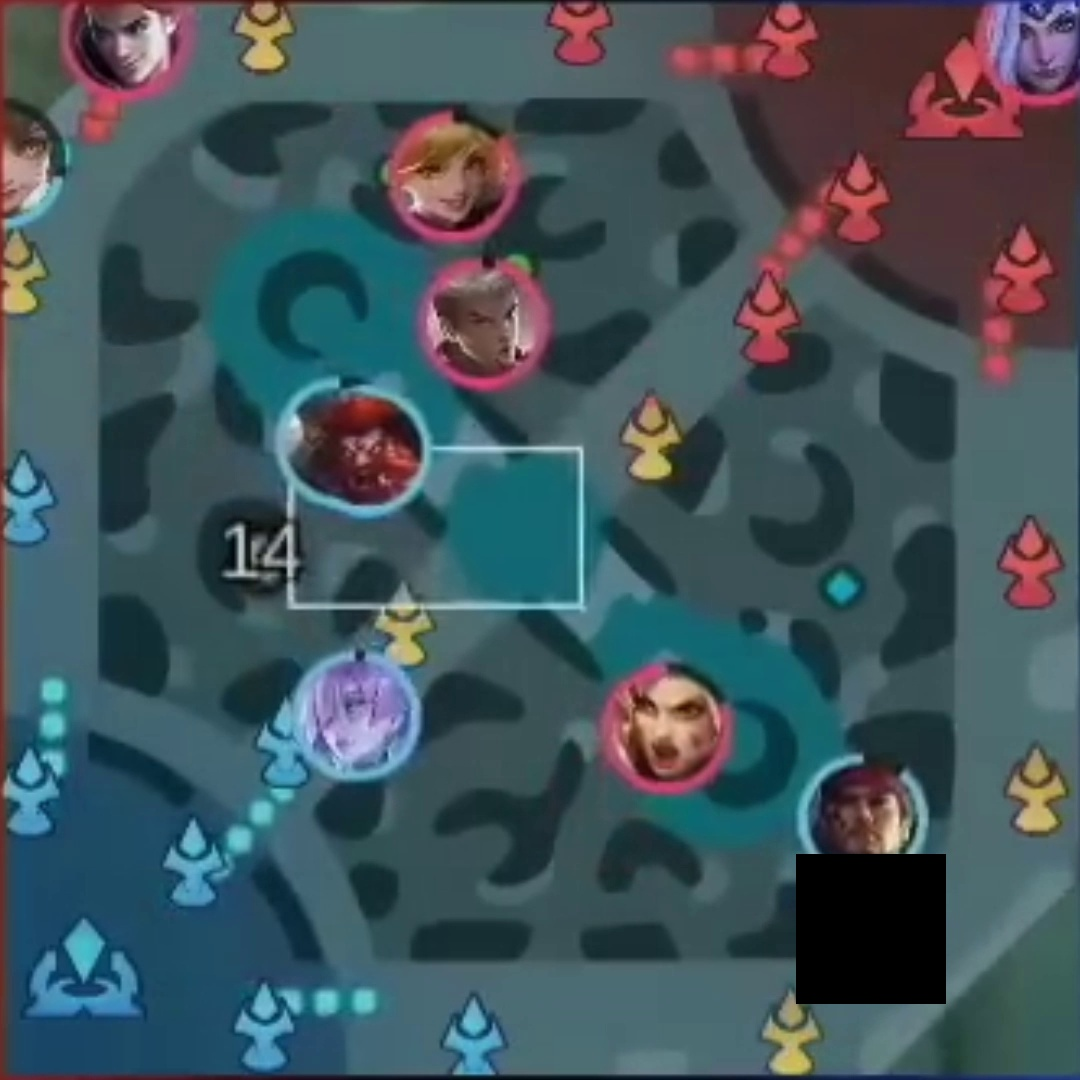Chou: (427, 266, 544, 380)
Claude: (62, 1, 187, 99)
Fanny: (396, 116, 516, 237)
Lapu-Lapu: (811, 758, 921, 875)
Masha: (608, 671, 719, 781)
Minotaur: (316, 403, 428, 501)
Novaria: (307, 660, 412, 771)
Valentina: (977, 6, 1080, 100)
Wanwan: (1, 103, 71, 229)
